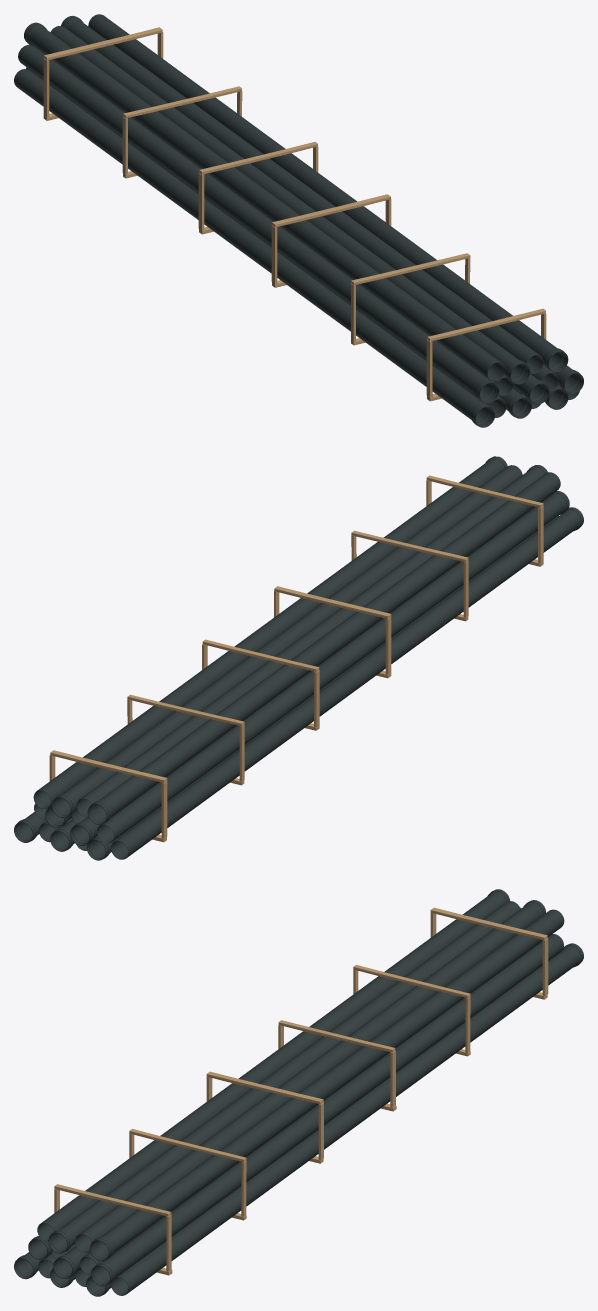
File: pipe_plastic_black_b06.glb
The picture shows the model from 3 angles, top to bottom: view 1: azimuth 30°, elevation 25°; view 2: azimuth 150°, elevation 25°; view 3: azimuth 330°, elevation 25°; orthographic projection.
Bounding box in the file's own units: 0.9853 × 0.509 × 7.02.
